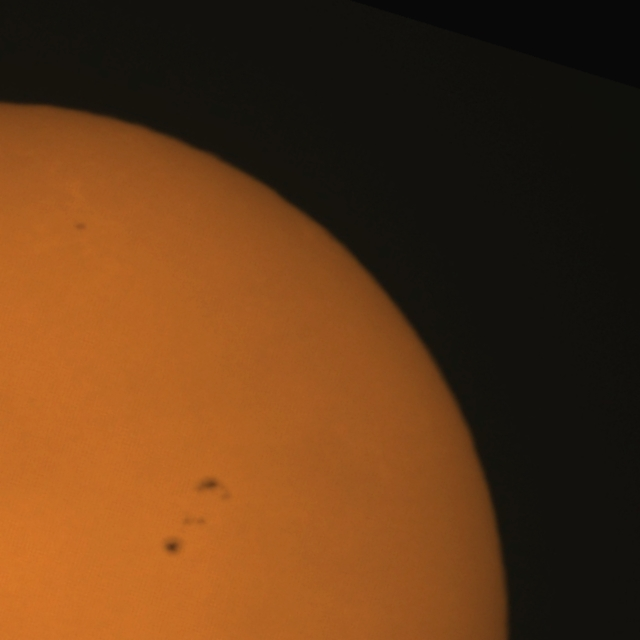sunspot: (193, 475, 234, 505), (161, 536, 182, 558), (181, 514, 208, 530), (73, 220, 88, 233)
